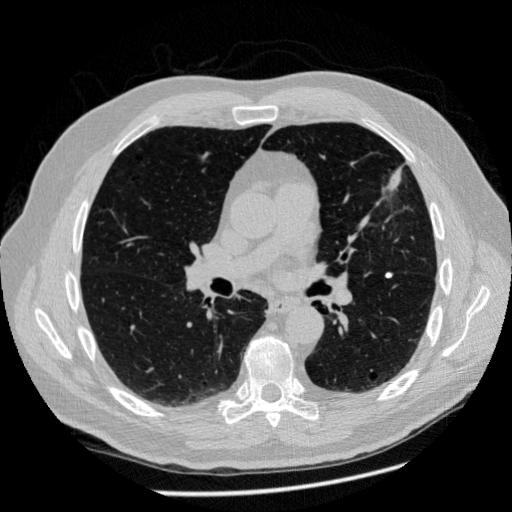nodule: (382, 270, 395, 283)
